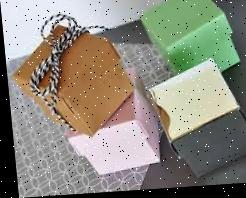cube: (10, 24, 135, 141), (148, 60, 246, 179)
